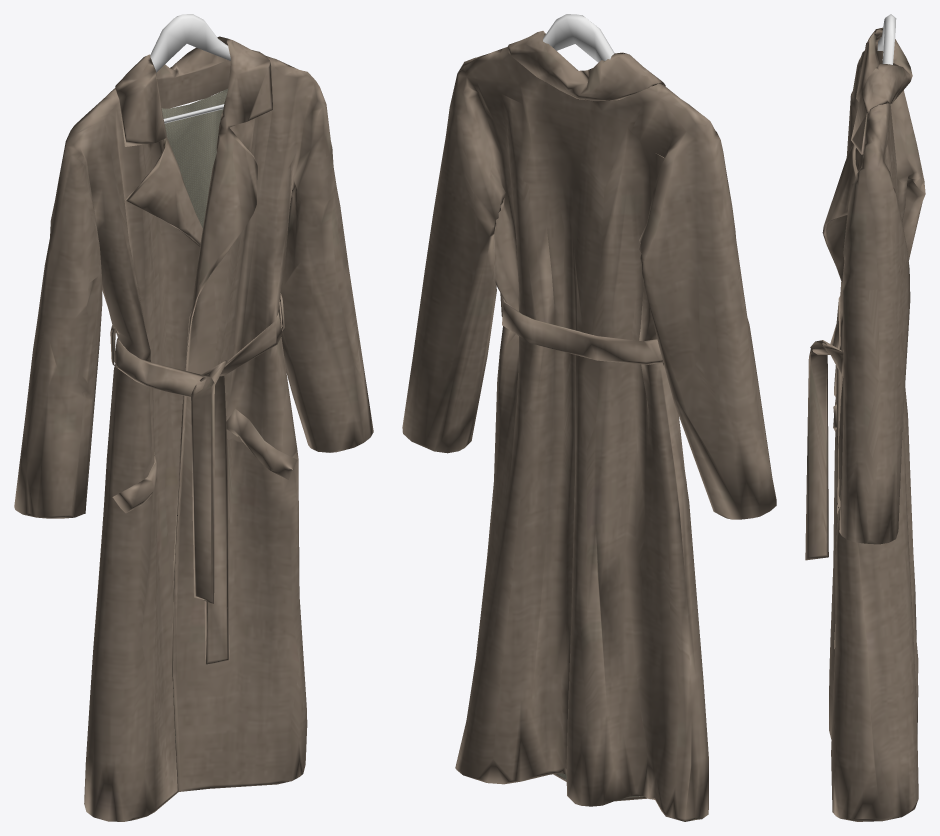
Rendered from hvcoat_coat_bej.glb.
3 views of the same model, side by side, from view 1: azimuth 30°, elevation 25°; view 2: azimuth 150°, elevation 25°; view 3: azimuth 270°, elevation 25° (orthographic). The views are drawn at different scales.
Visible parts, largest first — view 1: BP_coat_bej; view 2: BP_coat_bej; view 3: BP_coat_bej.
Part boxes in pixels (bbox=[...]): BP_coat_bej: bbox=[14, 14, 373, 821]; BP_coat_bej: bbox=[402, 14, 776, 821]; BP_coat_bej: bbox=[805, 14, 925, 821].
Size of the model in its own units: 0.6182 by 1.28 by 0.1839.
4 materials, 3 textured.
